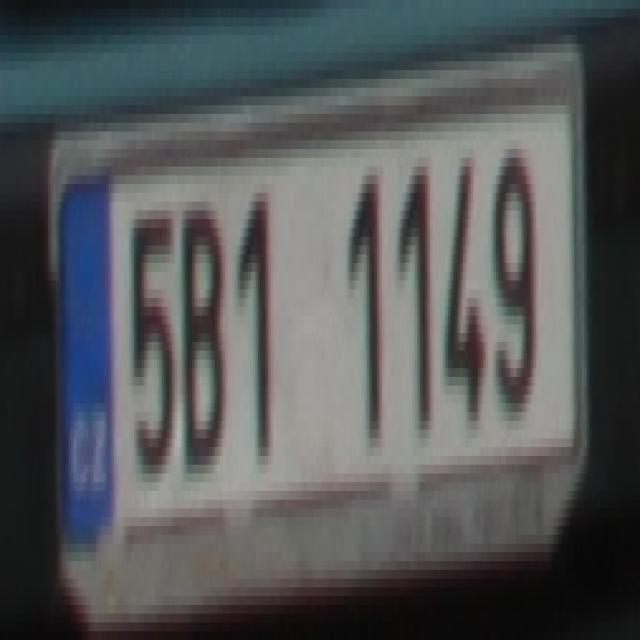1: (397, 158, 435, 448), (236, 193, 270, 465), (350, 166, 384, 430)
4: (443, 158, 488, 421)
5: (126, 211, 172, 474)
9: (491, 140, 539, 412)
B: (177, 202, 220, 464)
